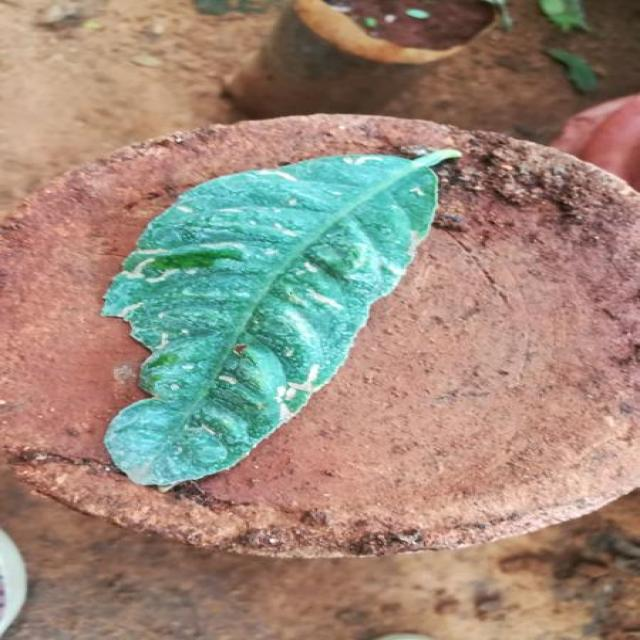badipala: (102, 151, 459, 489)
defectedbadipala: (102, 171, 307, 349)
